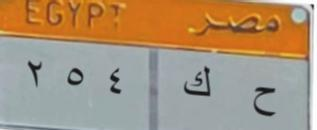2: (20, 57, 51, 93)
4: (103, 64, 128, 104)
5: (65, 62, 90, 94)
7aa: (247, 78, 282, 120)
kaaf: (181, 63, 216, 105)
